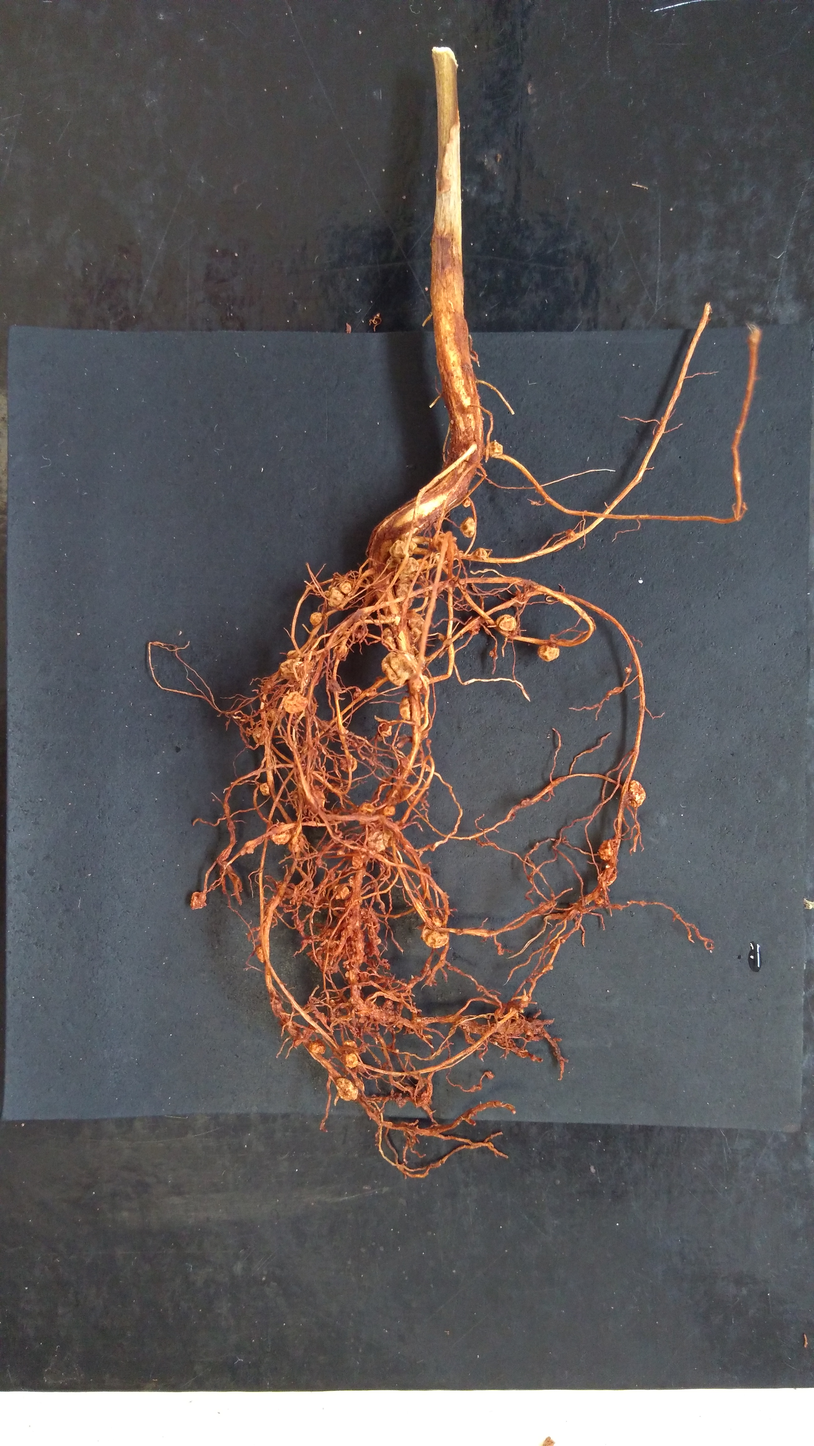nodule: (379, 651, 410, 687), (365, 827, 398, 858), (398, 695, 427, 722), (335, 1076, 360, 1103), (421, 928, 450, 951), (282, 691, 310, 714), (279, 658, 307, 681), (395, 581, 416, 610), (269, 821, 292, 847), (628, 779, 647, 809), (596, 866, 620, 888), (304, 790, 326, 814), (249, 725, 273, 747), (536, 644, 562, 663), (380, 627, 398, 653), (408, 674, 430, 695), (494, 612, 517, 632), (188, 890, 208, 913), (596, 839, 614, 864), (459, 515, 476, 539), (400, 557, 421, 575), (388, 539, 407, 558), (327, 586, 344, 607), (341, 1052, 360, 1070), (332, 884, 350, 901), (307, 1039, 326, 1055), (489, 439, 504, 459), (470, 546, 489, 561), (332, 644, 350, 659), (358, 801, 375, 816), (308, 611, 323, 626), (352, 850, 364, 868), (287, 837, 301, 852), (338, 580, 352, 594), (342, 1038, 359, 1049), (430, 915, 444, 928), (382, 805, 397, 817), (259, 782, 271, 797), (349, 756, 359, 773), (256, 946, 266, 963), (286, 647, 301, 658), (564, 529, 576, 539), (462, 498, 472, 509)
